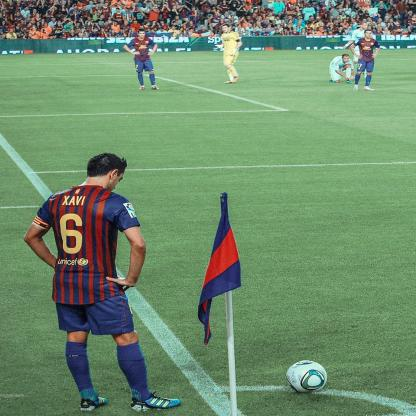corner kick: (21, 132, 379, 414)
